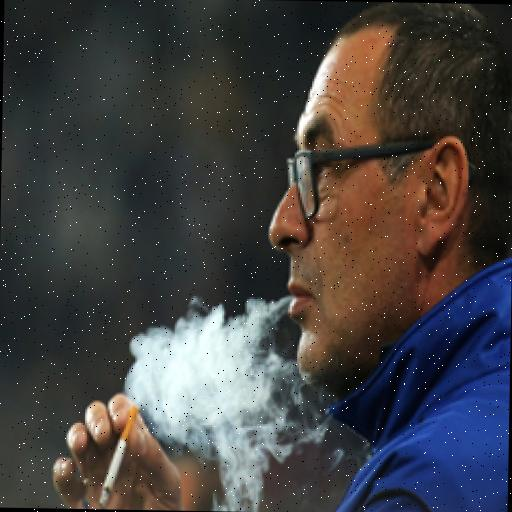asap rokok: (208, 186, 354, 412)
pegang rokok: (48, 324, 186, 510)
